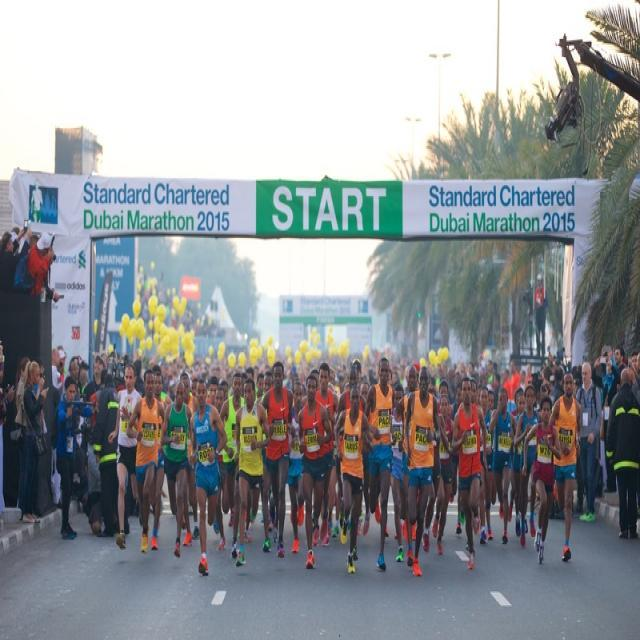Standard Chartered: (83, 180, 230, 206), (429, 183, 576, 208), (57, 250, 86, 270)
